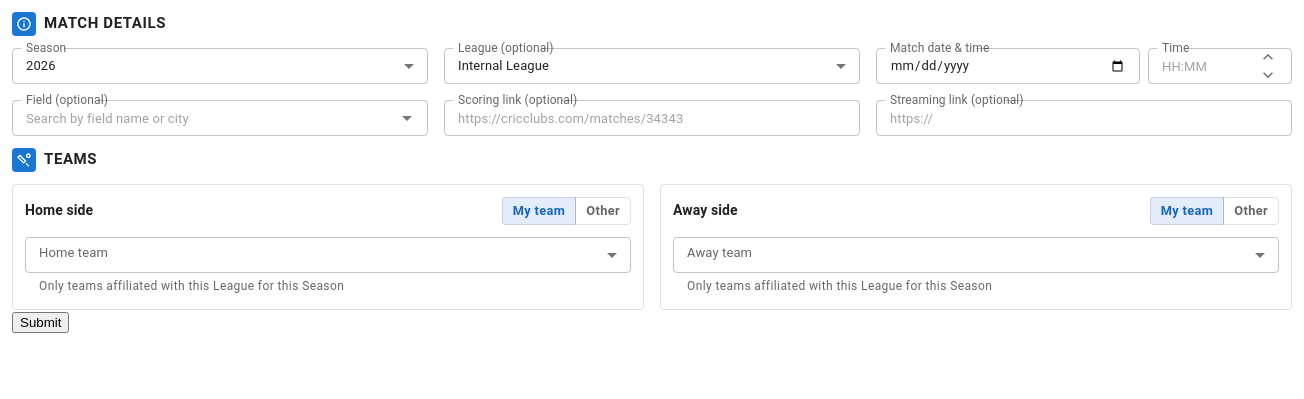
it: MatchForm › LeagueAffiliation narrowing › narrows Home/Away options to only teams affiliated with the selected League and Season
Click the dropdown named "Home team" next to "Home team" at (328, 255), box x1=25 y1=239 x2=631 y2=271
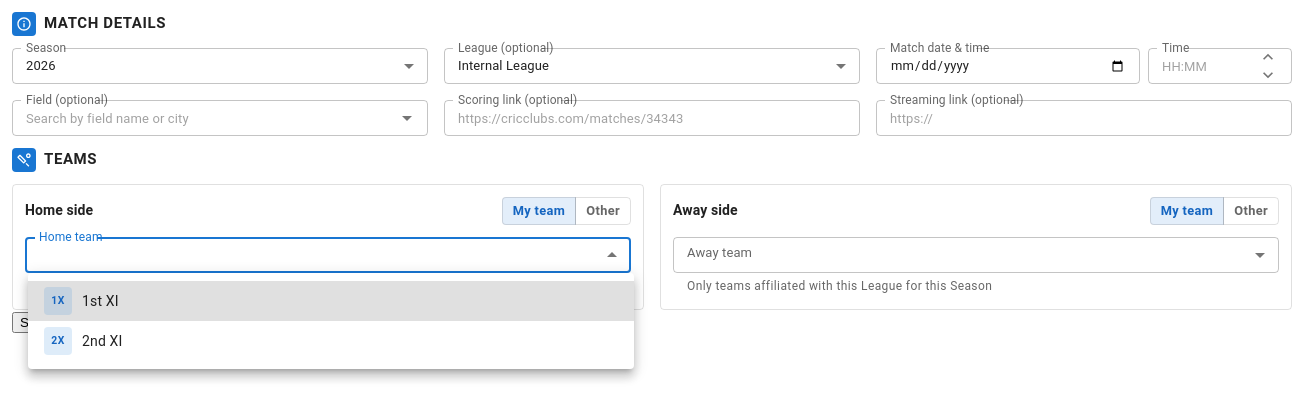
Check: the text "Only teams affiliated with this League for this Season" is shown 2 times, box x1=39 y1=279 x2=344 y2=293; x1=687 y1=279 x2=992 y2=293
Check: the option "1X 1st XI" is shown, box x1=28 y1=281 x2=634 y2=321
Check: the option "2X 2nd XI" is shown, box x1=44 y1=327 x2=122 y2=355
